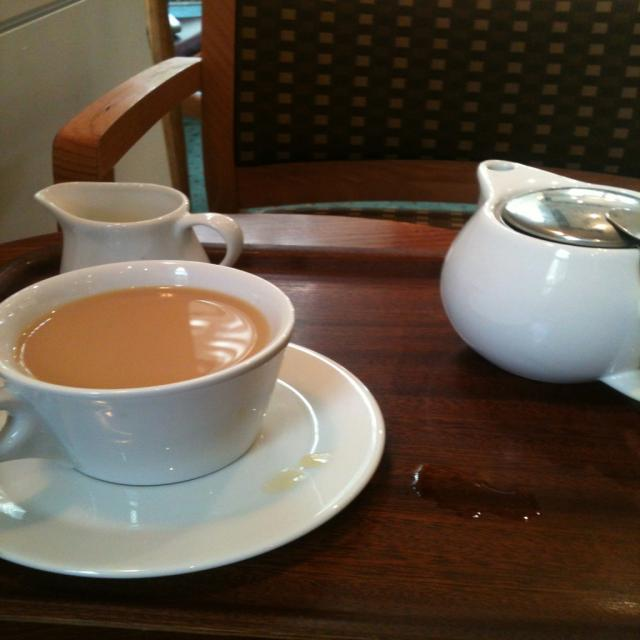Coffee: (10, 275, 262, 381)
Tea: (14, 283, 268, 389)
